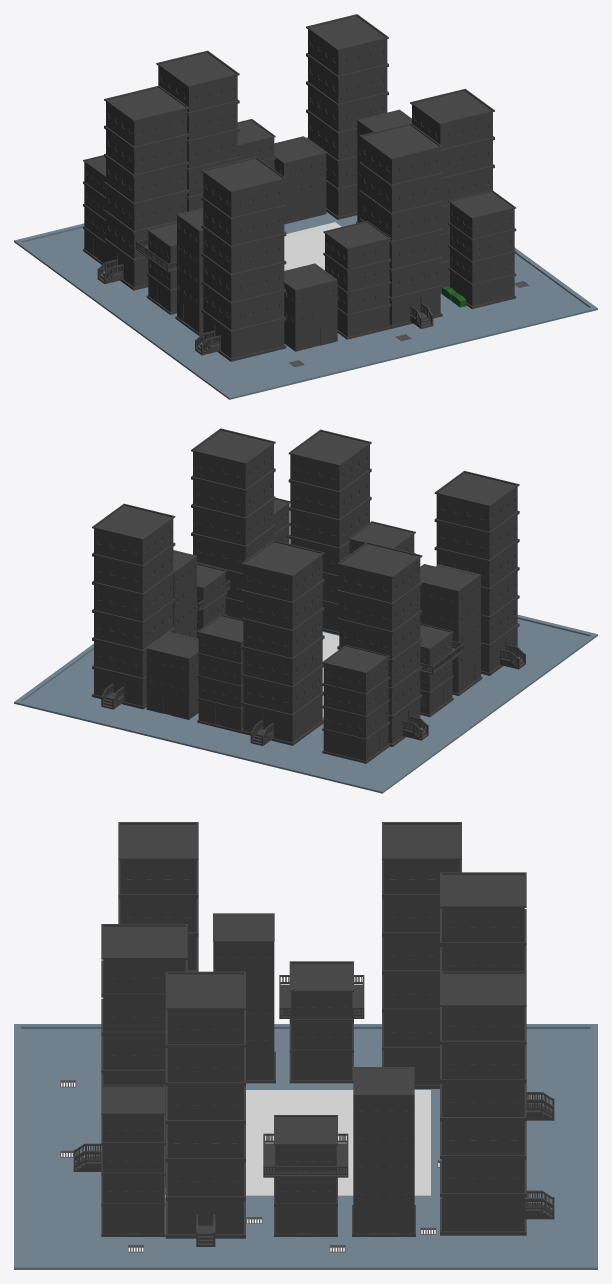
Rendered from map with textures.fbx.
3 renders of one model, top to bottom at view 1: azimuth 30°, elevation 25°; view 2: azimuth 150°, elevation 25°; view 3: azimuth 270°, elevation 25°, orthographic. The views are drawn at different scales.
Visible parts, largest first — view 1: building_005, building_009, building_013.001, building_008; view 2: building_005, building_009, building_013.001; view 3: building_005, building_009, building_008, Plane.007.
Boxes of the visible parts, x1,y1,x2,y2 form: building_005: (83,14,516,361); building_009: (14,212,597,399); building_013.001: (274,136,326,224); building_008: (284,222,341,270); building_005: (92,428,525,763); building_009: (14,614,597,793); building_013.001: (146,631,198,719); building_005: (73,822,554,1246); building_009: (14,1024,597,1269); building_008: (246,1090,430,1195); Plane.007: (60,1080,439,1252).
Size of the model in its own units: 3771 by 1676 by 3820.
